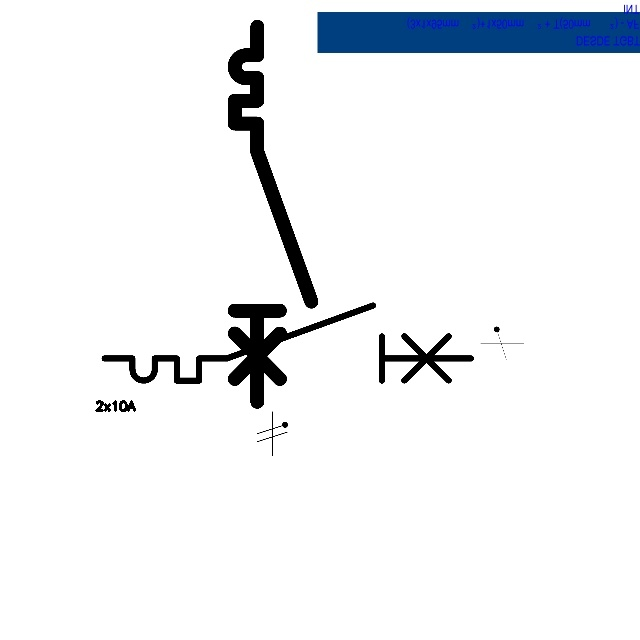interruptor_termomagnetico: (225, 17, 321, 412), (95, 296, 480, 390)
